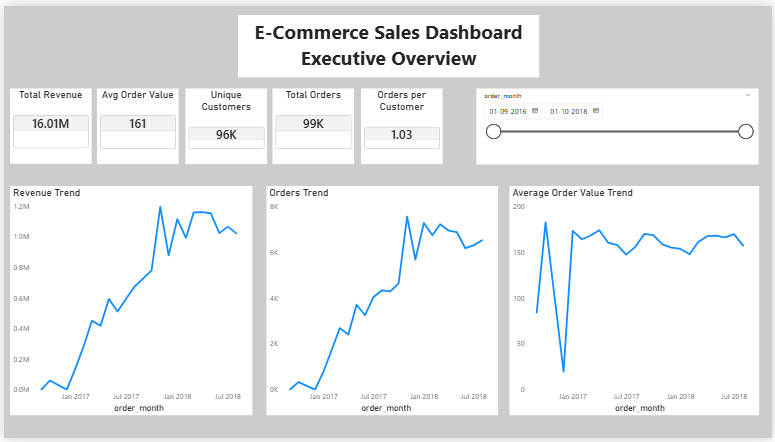

Layout of this report page (visuals, bound fields, positions):
{"tool":"powerbi","page":{"name":"Executive Overview","canvas":[1280,720],"ordinal":0},"visuals":[{"type":"cardVisual","title":"Total Revenue","fields":{"Rows":["ecommerce_project vw_kpi_summary.total_revenue"]},"box":[10,138,136,125],"z":0},{"type":"cardVisual","title":"Total Orders","fields":{"Rows":["ecommerce_project vw_kpi_summary.total_orders"]},"box":[448,138,136,126],"z":1000},{"type":"cardVisual","title":"Orders per Customer","fields":{"Rows":["ecommerce_project vw_kpi_summary.orders_per_customer"]},"box":[594,138,136,126],"z":2000},{"type":"cardVisual","title":"Avg Order Value","fields":{"Rows":["ecommerce_project vw_kpi_summary.avg_order_value"]},"box":[156,138,136,126],"z":3000},{"type":"cardVisual","title":"Unique Customers","fields":{"Rows":["ecommerce_project vw_kpi_summary.unique_customers"]},"box":[302,138,136,126],"z":4000},{"type":"lineChart","title":"Revenue Trend","fields":{"Category":["ecommerce_project vw_monthly_revenue.order_month"],"Y":["Sum(ecommerce_project vw_monthly_revenue.monthly_revenue)"]},"box":[10,300,404,382],"z":5000},{"type":"lineChart","title":"Orders Trend","fields":{"Y":["Sum(ecommerce_project vw_monthly_revenue.total_orders)"],"Category":["ecommerce_project vw_monthly_revenue.order_month"]},"box":[438,300,386,382],"z":6000},{"type":"lineChart","title":"Average Order Value Trend","fields":{"Y":["ecommerce_project vw_monthly_revenue.Average_Order_Value"],"Category":["ecommerce_project vw_monthly_revenue.order_month"]},"box":[842,300,416,382],"z":7000},{"type":"slicer","fields":{"Values":["ecommerce_project vw_monthly_revenue.order_month"]},"box":[788,138,470,126],"z":8000},{"type":"textbox","box":[390,16,502,104],"z":9000}]}

Visuals, with their boxes in screenshot pixels (x1, y1, x2, y2), scaled from the page's 1280x720 canvas onto the 775x442 screenshot:
"Total Revenue" cardVisual: bbox=(6, 85, 88, 161)
"Total Orders" cardVisual: bbox=(271, 85, 354, 162)
"Orders per Customer" cardVisual: bbox=(360, 85, 442, 162)
"Avg Order Value" cardVisual: bbox=(94, 85, 177, 162)
"Unique Customers" cardVisual: bbox=(183, 85, 265, 162)
"Revenue Trend" lineChart: bbox=(6, 184, 251, 419)
"Orders Trend" lineChart: bbox=(265, 184, 499, 419)
"Average Order Value Trend" lineChart: bbox=(510, 184, 762, 419)
slicer - ecommerce_project vw_monthly_revenue.order_month: bbox=(477, 85, 762, 162)
textbox: bbox=(236, 10, 540, 74)
